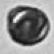correct: (4, 4, 54, 46)
